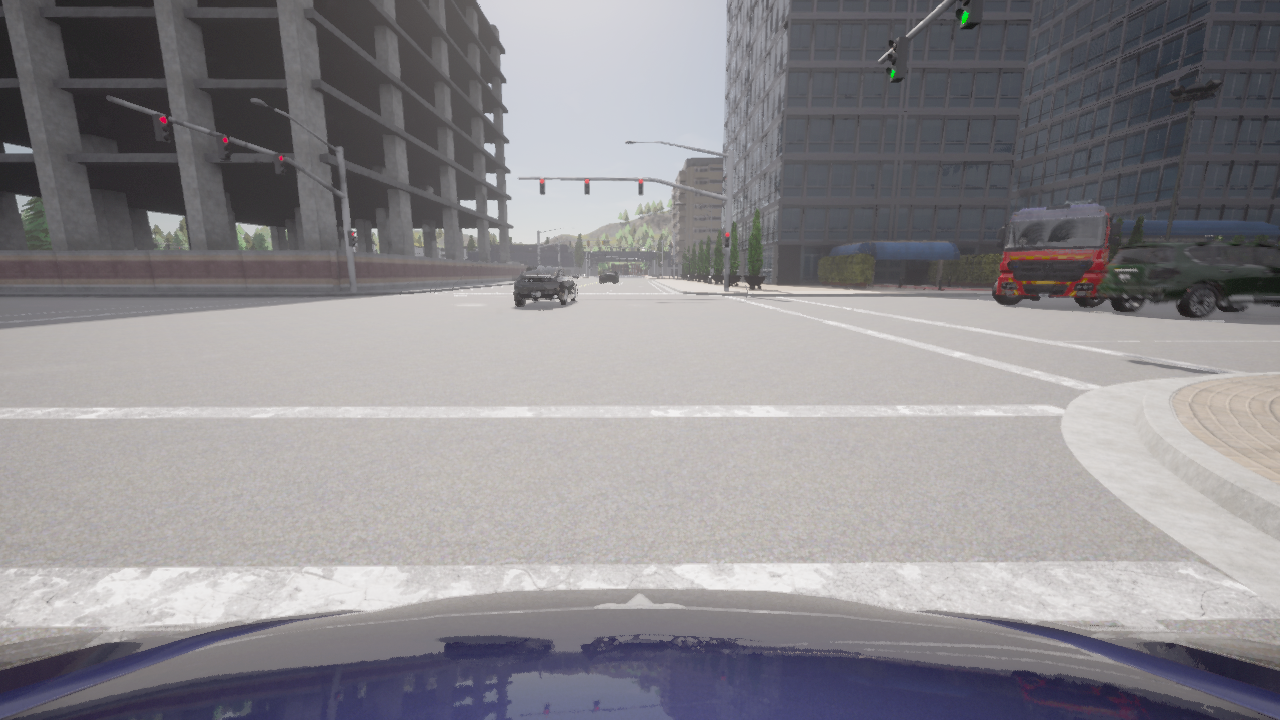cyclist: (0, 588, 1279, 719), (1096, 241, 1279, 318), (992, 199, 1120, 306), (514, 265, 577, 305), (600, 273, 615, 282), (607, 272, 618, 281)
